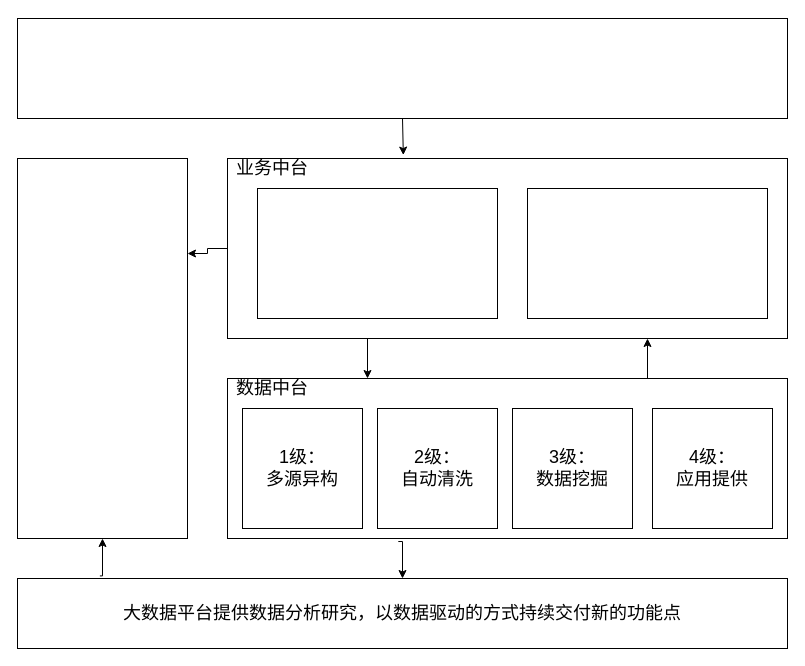
Image size: 805x666. Some labels were removed from this diagram. Here are the shapes that lost their labels. From the top down, the centre of each, then its label:
At point 402,68: "客户端及本地部署".
At point 102,348: "ETL数据接入服务".
